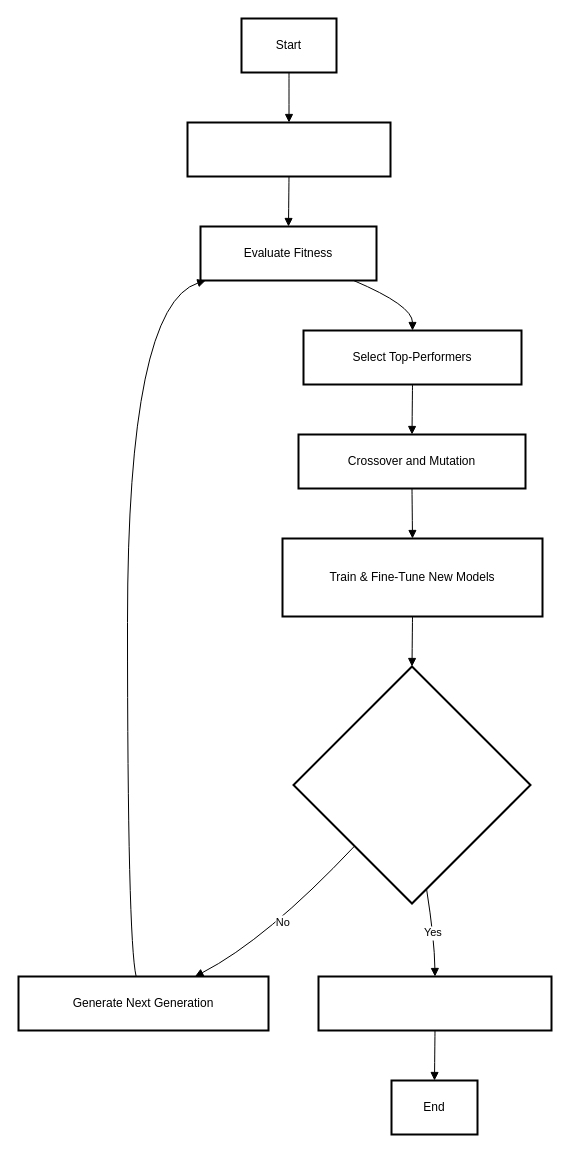
This 569x1152 diagram has some shape labels left out. Here are the shapes that lost their labels. From the top down, the box of each, then its label:
(186, 121, 391, 177): Initialize Population
(292, 665, 531, 904): Is Stopping Criterion Met?
(317, 975, 552, 1031): Select Best Architecture
